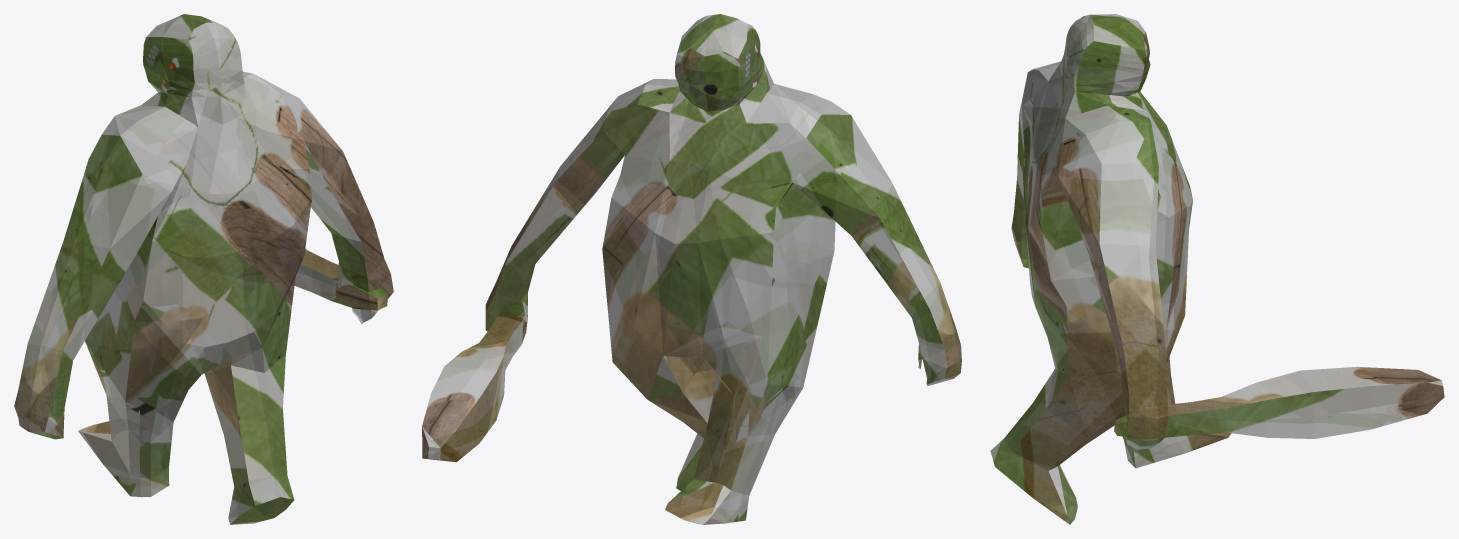
The model's file is Enemigo218.obj.
3 renders of one model, left to right at view 1: azimuth 30°, elevation 25°; view 2: azimuth 150°, elevation 25°; view 3: azimuth 270°, elevation 25°, orthographic. The views are drawn at different scales.
Parts seen in each view (by area): view 1: Cube; view 2: Cube; view 3: Cube.
Boxes of the visible parts, x1,y1,x2,y2 form: Cube: (14, 14, 393, 524); Cube: (422, 14, 961, 524); Cube: (990, 14, 1444, 524).
Size of the model in its own units: 2.46 by 2.83 by 2.42.
